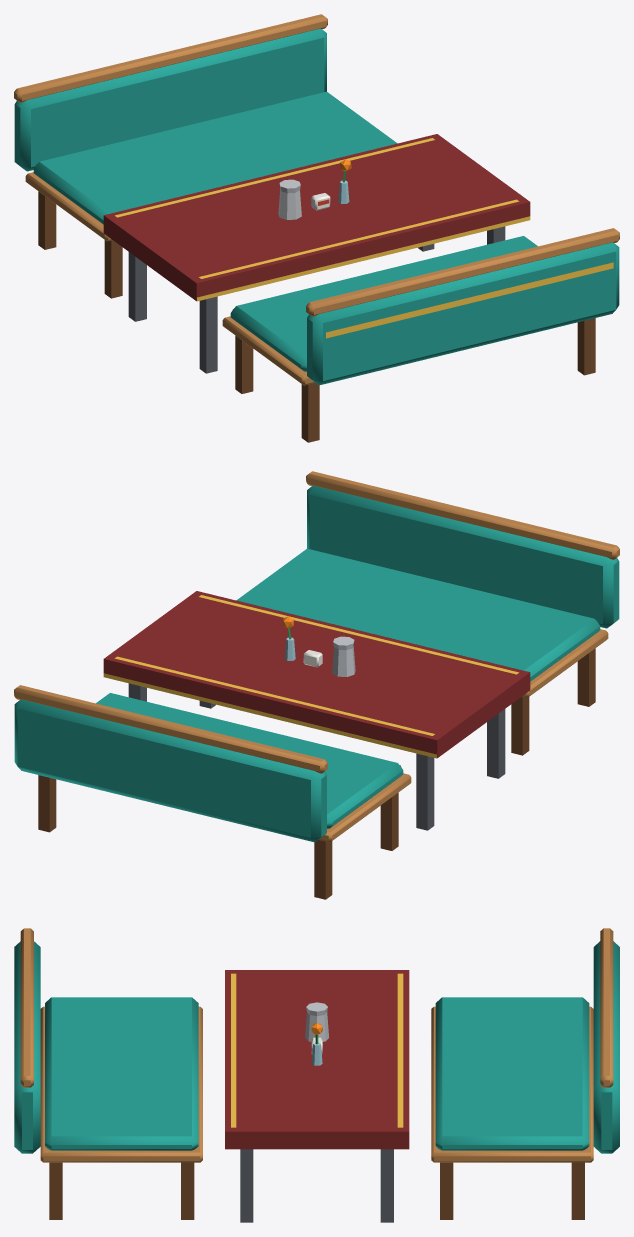
The model's file is family_table.glb.
3 views of the same model, one above another, from view 1: azimuth 30°, elevation 25°; view 2: azimuth 150°, elevation 25°; view 3: azimuth 270°, elevation 25° (orthographic).
Parts seen in each view (by area): view 1: family_table; view 2: family_table; view 3: family_table.
Part boxes in pixels (x1,y1,x2,y2): family_table: [14, 14, 619, 442]; family_table: [14, 471, 619, 899]; family_table: [14, 928, 619, 1222].
Size of the model in its own units: 1.74 by 0.745 by 2.76.
Materials: 1 (1 with a texture image).
